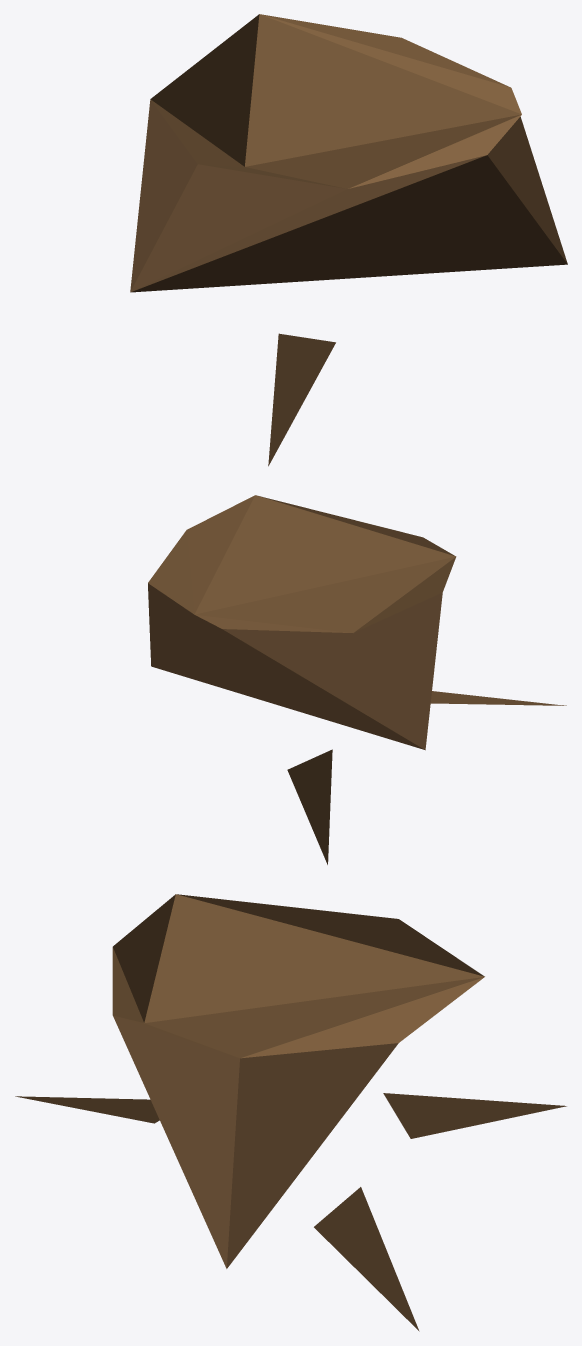
Rendered from log_stump_lod1.glb.
3 views of the same model, one above another, from view 1: azimuth 30°, elevation 25°; view 2: azimuth 150°, elevation 25°; view 3: azimuth 270°, elevation 25° (orthographic). The views are drawn at different scales.
Visible parts, largest first — view 1: log_stump_lod1; view 2: log_stump_lod1; view 3: log_stump_lod1.
Boxes of the visible parts, left/top/right/bottom form: log_stump_lod1: left=130, top=14, right=567, bottom=466; log_stump_lod1: left=148, top=495, right=566, bottom=864; log_stump_lod1: left=15, top=894, right=566, bottom=1331.
Size of the model in its own units: 1.19 by 0.5409 by 1.18.
